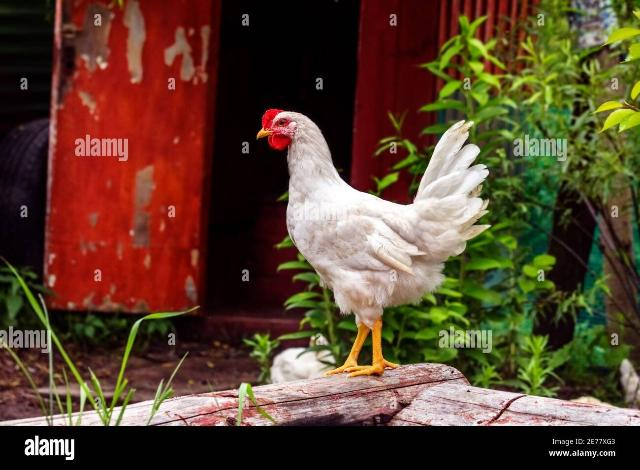Chicken: (255, 107, 490, 378)
